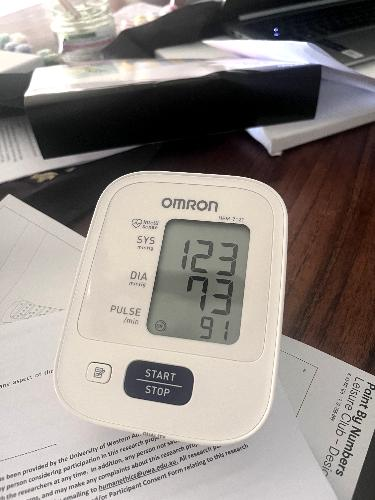bpm: (142, 209, 258, 348)
